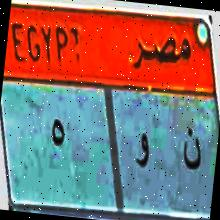5: (47, 112, 69, 152)
noon: (177, 117, 206, 187)
waw: (130, 130, 152, 182)
